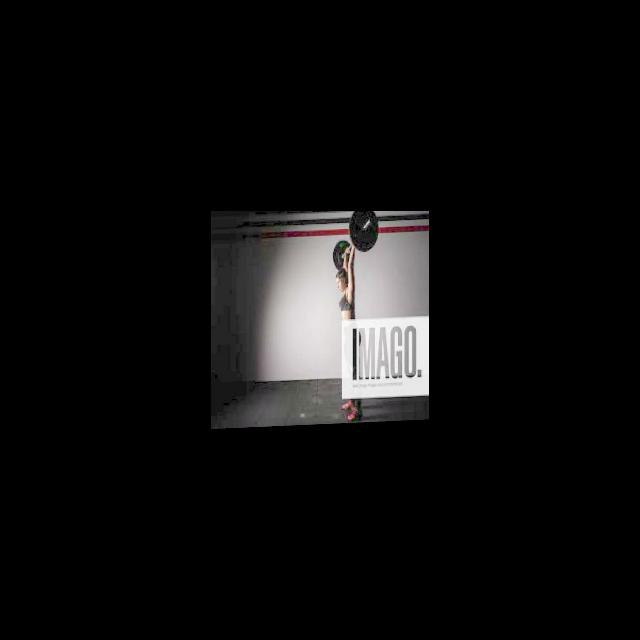barbell: (347, 211, 383, 255)
